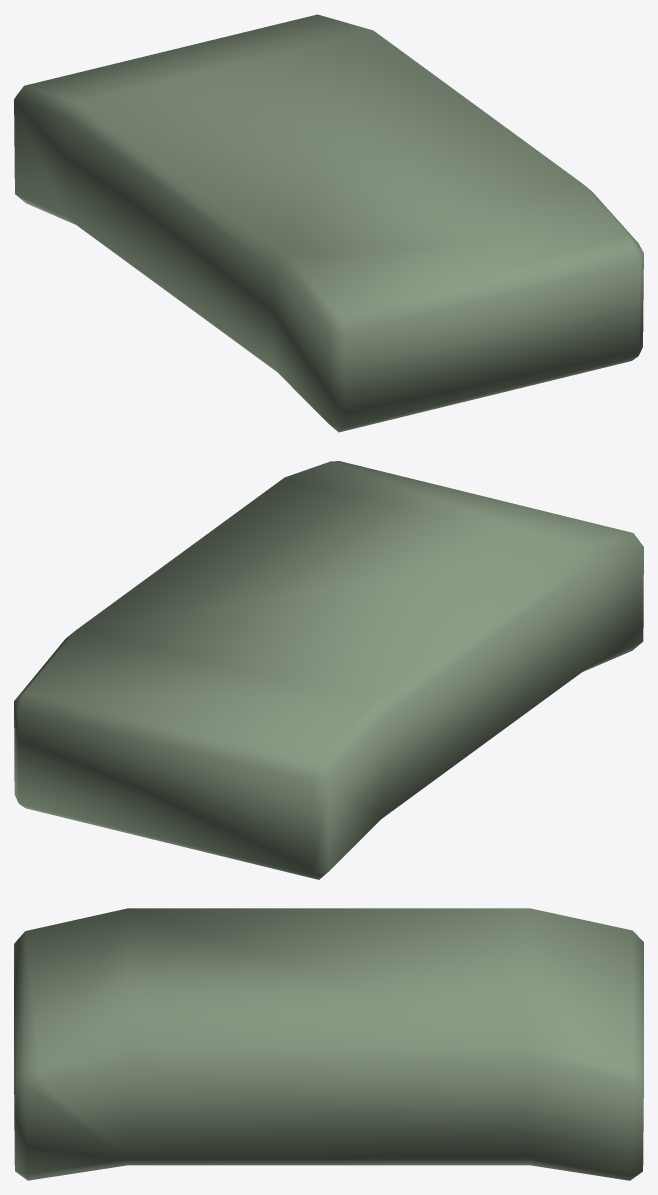
File: SM_Soap.fbx
3 renders of one model, top to bottom at view 1: azimuth 30°, elevation 25°; view 2: azimuth 150°, elevation 25°; view 3: azimuth 270°, elevation 25°, orthographic. The views are drawn at different scales.
Visible parts, largest first — view 1: Soap_Bar5:polySurface1; view 2: Soap_Bar5:polySurface1; view 3: Soap_Bar5:polySurface1.
Boxes of the visible parts, left/top/right/bottom form: Soap_Bar5:polySurface1: left=14, top=14, right=643, bottom=432; Soap_Bar5:polySurface1: left=14, top=461, right=643, bottom=879; Soap_Bar5:polySurface1: left=14, top=908, right=643, bottom=1180.
Size of the model in its own units: 5.07 by 2.12 by 9.01.
